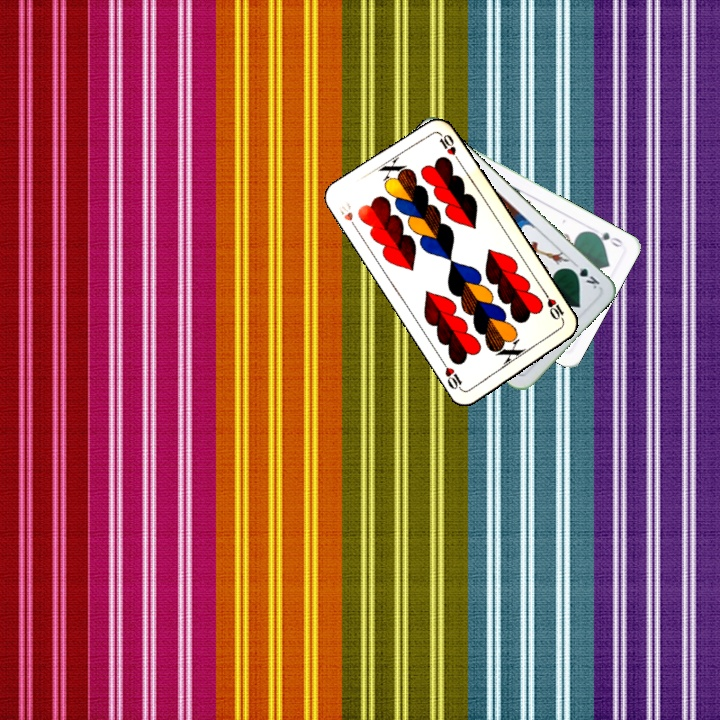GK: (566, 258, 602, 292)
GO: (587, 227, 625, 250)
H10: (334, 196, 361, 234), (541, 288, 567, 325)
